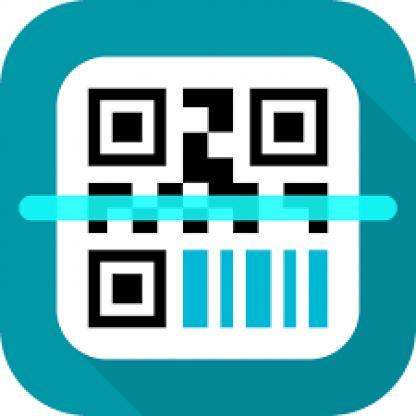qr_code: (88, 88, 328, 328)
